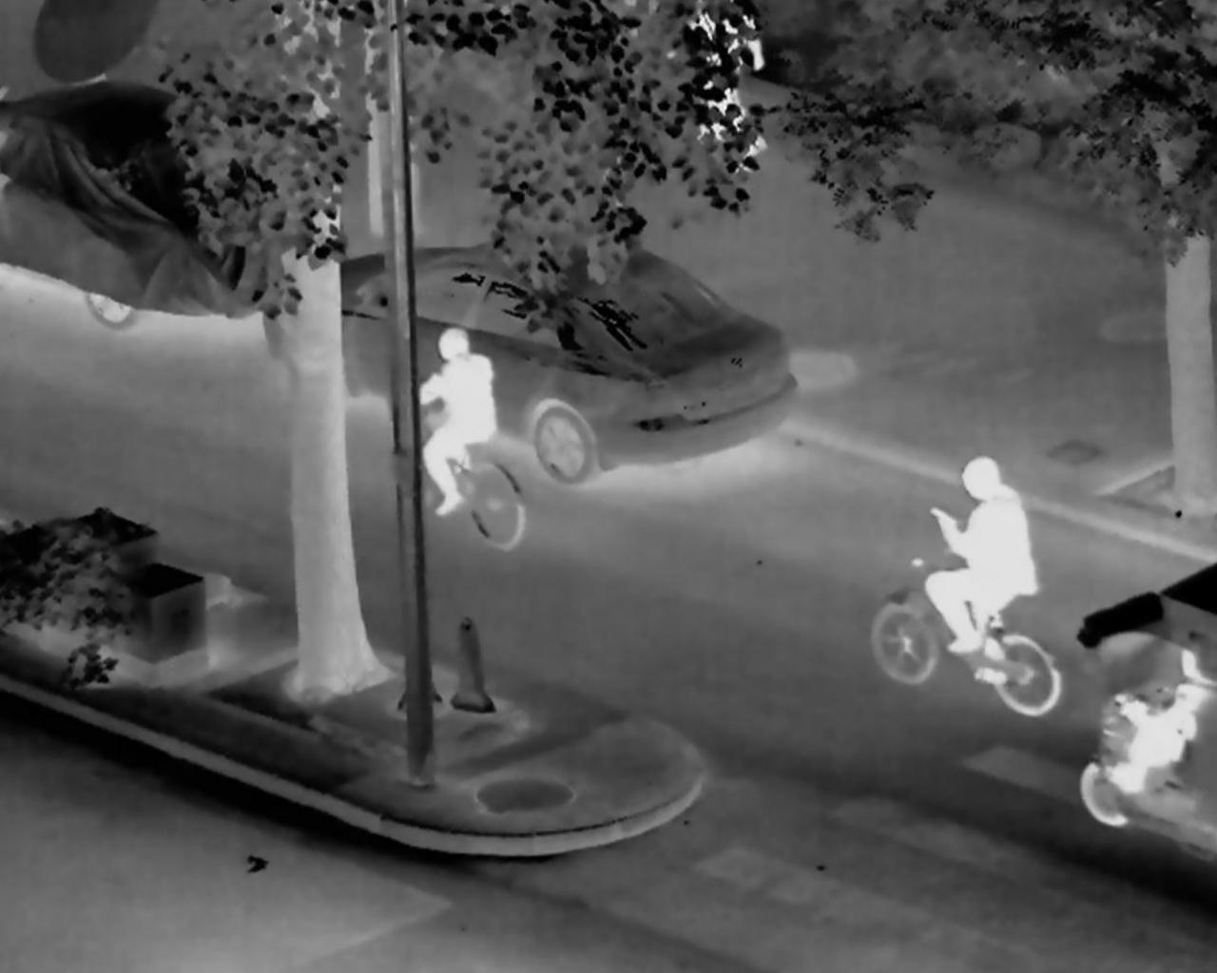person: (929, 456, 1040, 683), (409, 325, 493, 522), (1113, 637, 1210, 795)
